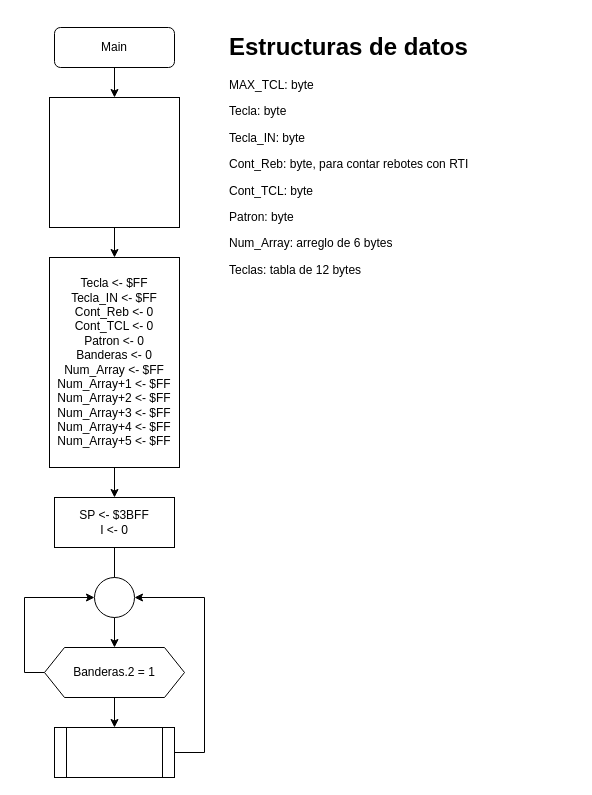
Image size: 592x795. Some labels were removed from this diagram. The shapes that lost their labels are listed below. From the top down, each one's centre as x and y in pixels, then its label:
the point at 114,162: CRGINT.7 <- 1 RTICTL <- $0F PIEH.0 <- 1 PPSH.0 <- 0 DDRA <- $F0 PUCR.0 <- 1
the point at 114,752: Tarea_Teclado
